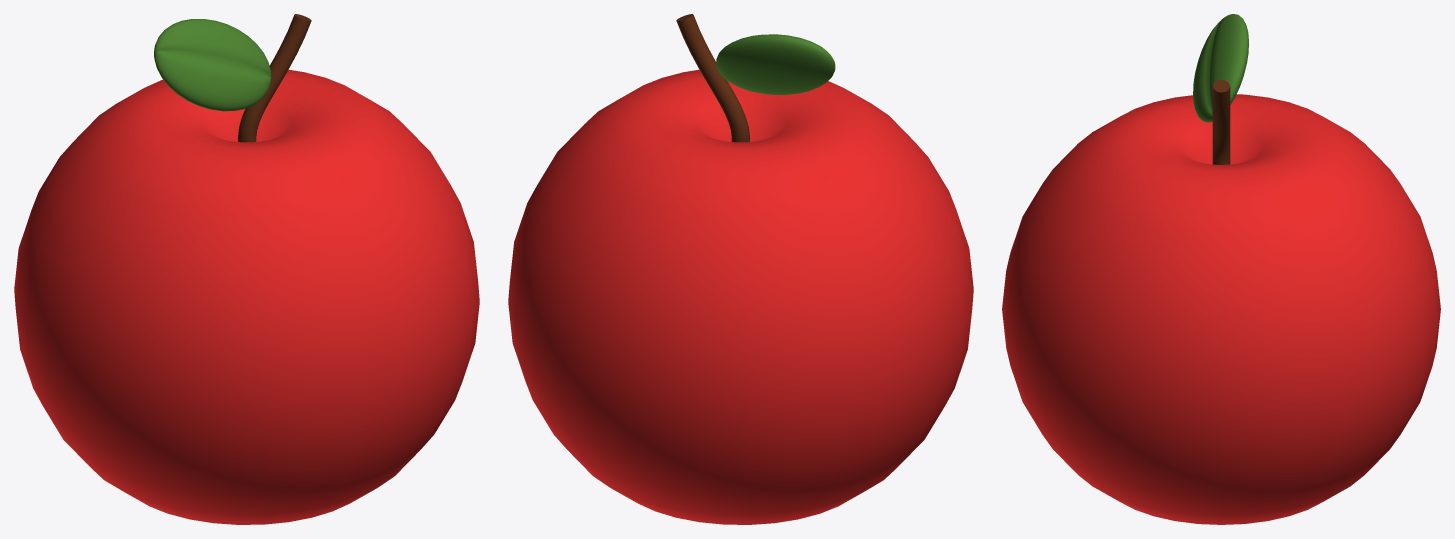
Rendered from anApple.glb.
3 renders of one model, left to right at view 1: azimuth 30°, elevation 25°; view 2: azimuth 150°, elevation 25°; view 3: azimuth 270°, elevation 25°, orthographic. The views are drawn at different scales.
Parts seen in each view (by area): view 1: Sphere, Sphere.001, BezierCurve; view 2: Sphere, Sphere.001, BezierCurve; view 3: Sphere, Sphere.001, BezierCurve.
Boxes of the visible parts, x1=… form: Sphere: x1=14, y1=69, x2=479, y2=524; Sphere.001: x1=154, y1=19, x2=271, y2=111; BezierCurve: x1=237, y1=14, x2=311, y2=142; Sphere: x1=508, y1=69, x2=973, y2=524; Sphere.001: x1=716, y1=34, x2=835, y2=94; BezierCurve: x1=676, y1=14, x2=750, y2=142; Sphere: x1=1002, y1=94, x2=1440, y2=524; Sphere.001: x1=1193, y1=14, x2=1248, y2=122; BezierCurve: x1=1212, y1=80, x2=1230, y2=164.
Bounding box in the file's own units: 2 × 2.2 × 2.
